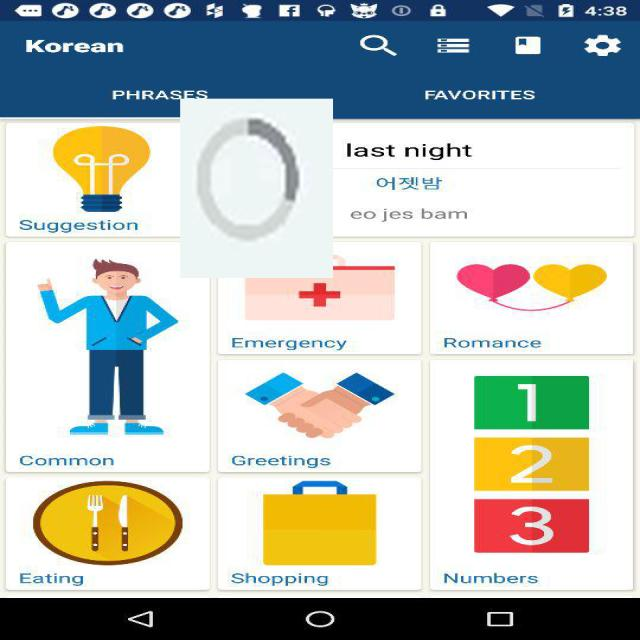misdirection: (180, 99, 333, 278)
